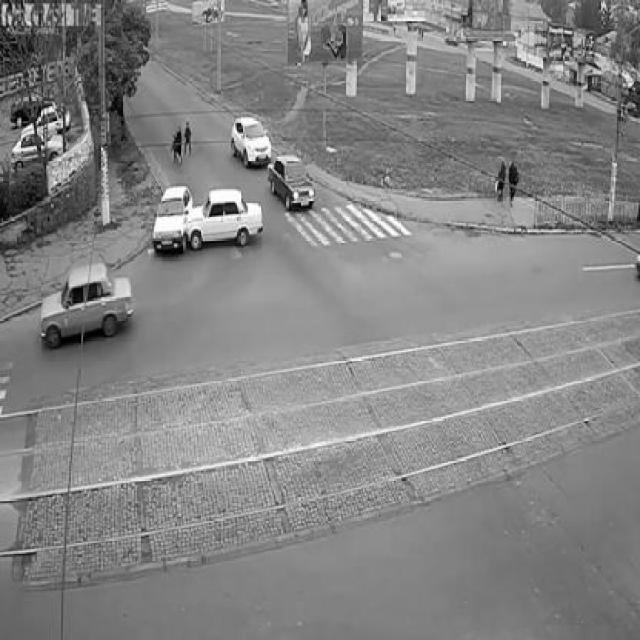accident: (146, 176, 266, 265)
vehicle: (37, 261, 138, 350), (265, 147, 319, 216), (8, 125, 73, 166), (227, 115, 275, 169), (9, 97, 71, 129)
